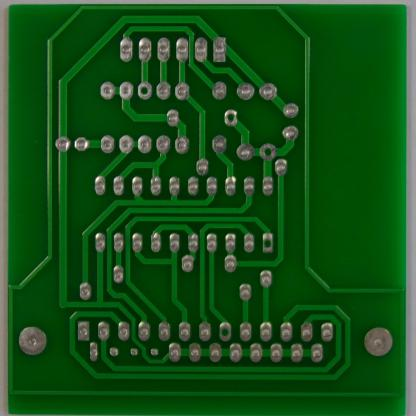missing_hole: (260, 143, 276, 159), (218, 323, 232, 339), (223, 110, 238, 124), (138, 81, 151, 97), (262, 235, 274, 252)
